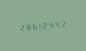eight: (23, 21, 28, 32)
four: (47, 19, 52, 30), (53, 19, 58, 29)
one: (35, 20, 40, 31)
six: (29, 21, 34, 31)
two: (59, 18, 64, 29), (17, 22, 22, 32), (41, 20, 46, 30)
